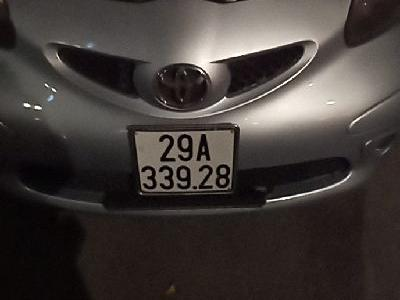car: (129, 127, 240, 196)
